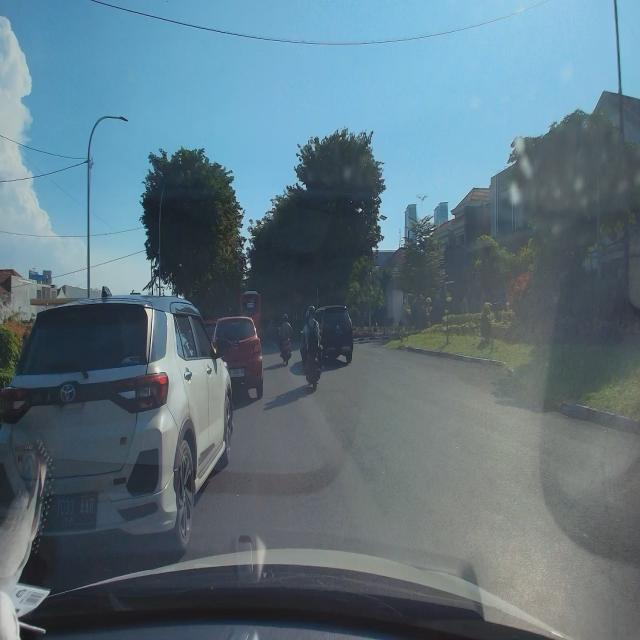car: (0, 283, 235, 559), (211, 315, 265, 403)
license-plate: (41, 492, 98, 529)
